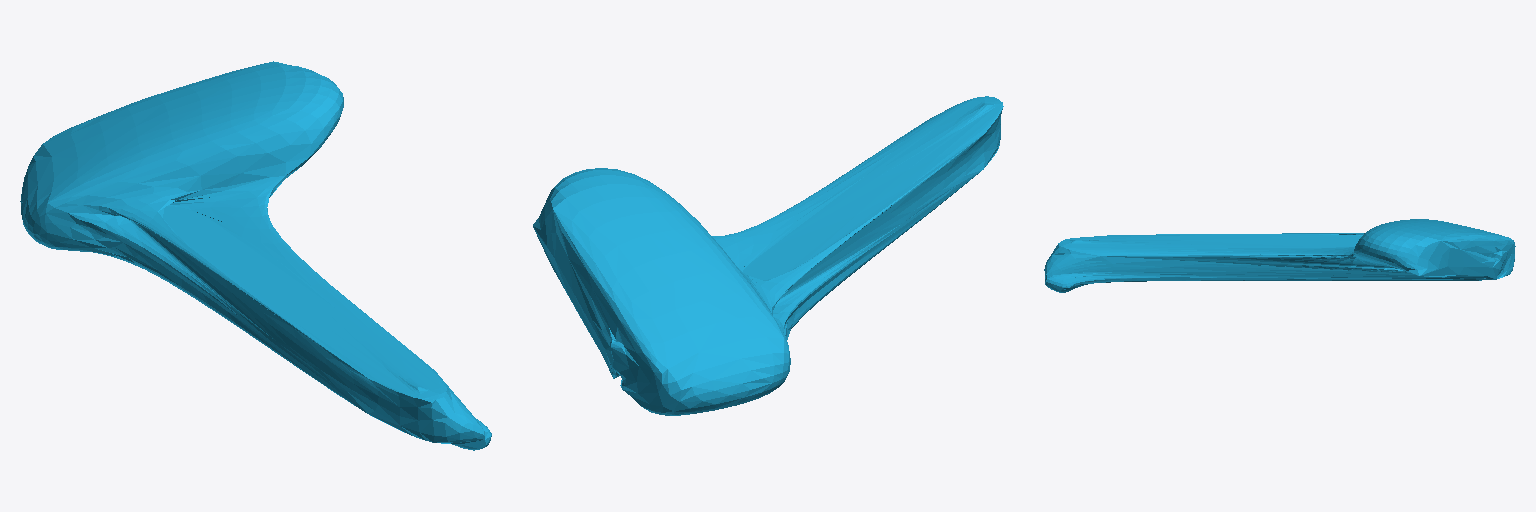
robot.urdf — blob728:

<robot name="blob728">
  <link name="random_obj_728">
    <contact>
      <lateral_friction value="1.0"/>
      <rolling_friction value="0.0"/>
      <inertia_scaling value="3.0"/>
      <contact_cfm value="0.0"/>
      <contact_erp value="1.0"/>
    </contact>
    <inertial>
      <origin rpy="0 0 0" xyz="0 0 0"/>
      <mass value="0.1503"/>
      <inertia ixx="1" ixy="0" ixz="0" iyy="1" iyz="0" izz="0"/>
    </inertial>
    <visual>
      <origin rpy="0 0 0" xyz="0 0 0"/>
      <geometry>
        <mesh filename="728.obj" scale="0.0103 0.0103 0.0103"/>
      </geometry>
      <material name="blockmat">
        <color rgba="0.19 0.71 0.88 1"/>
      </material>
    </visual>
    <collision>
      <origin rpy="0 0 0" xyz="0 0 0"/>
      <geometry>
        <mesh filename="728_coll.obj" scale="0.0103 0.0103 0.0103"/>
      </geometry>
    </collision>
  </link>
</robot>

--- What the picture shows (computed from the rendered views, not written in the file) ---
The picture shows the robot from 3 angles, left to right: view 1: azimuth 30°, elevation 25°; view 2: azimuth 150°, elevation 25°; view 3: azimuth 270°, elevation 25°; orthographic projection.
Robot: blob728 — 1 links, 0 joints (none); root link random_obj_728; default pose: all joints at 0.
Visible links, largest first — view 1: random_obj_728; view 2: random_obj_728; view 3: random_obj_728.
Boxes of the visible links, box(x1,y1,x2,y2) form: random_obj_728: box(20, 61, 491, 450); random_obj_728: box(533, 96, 1003, 415); random_obj_728: box(1044, 219, 1515, 292).
Size in the robot's own frame: 0.0531 by 0.1256 by 0.0262 metres.
1 mesh visuals loaded from 1 distinct referenced files (1 OBJ).
